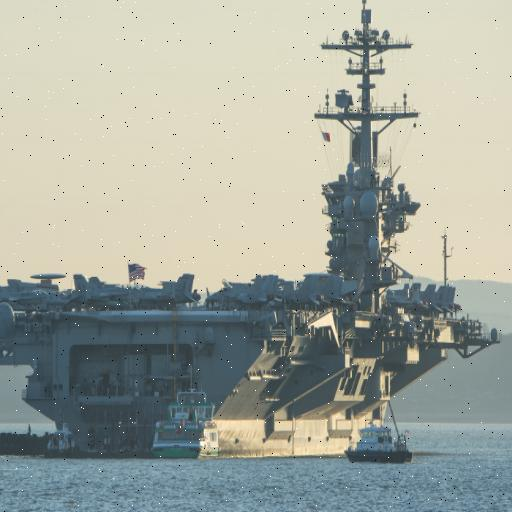Portanaves: (1, 1, 506, 464)
